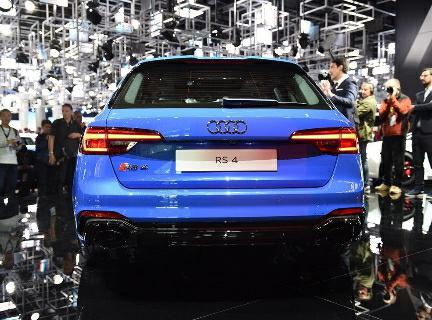奥迪-RS4: (69, 52, 378, 267)
